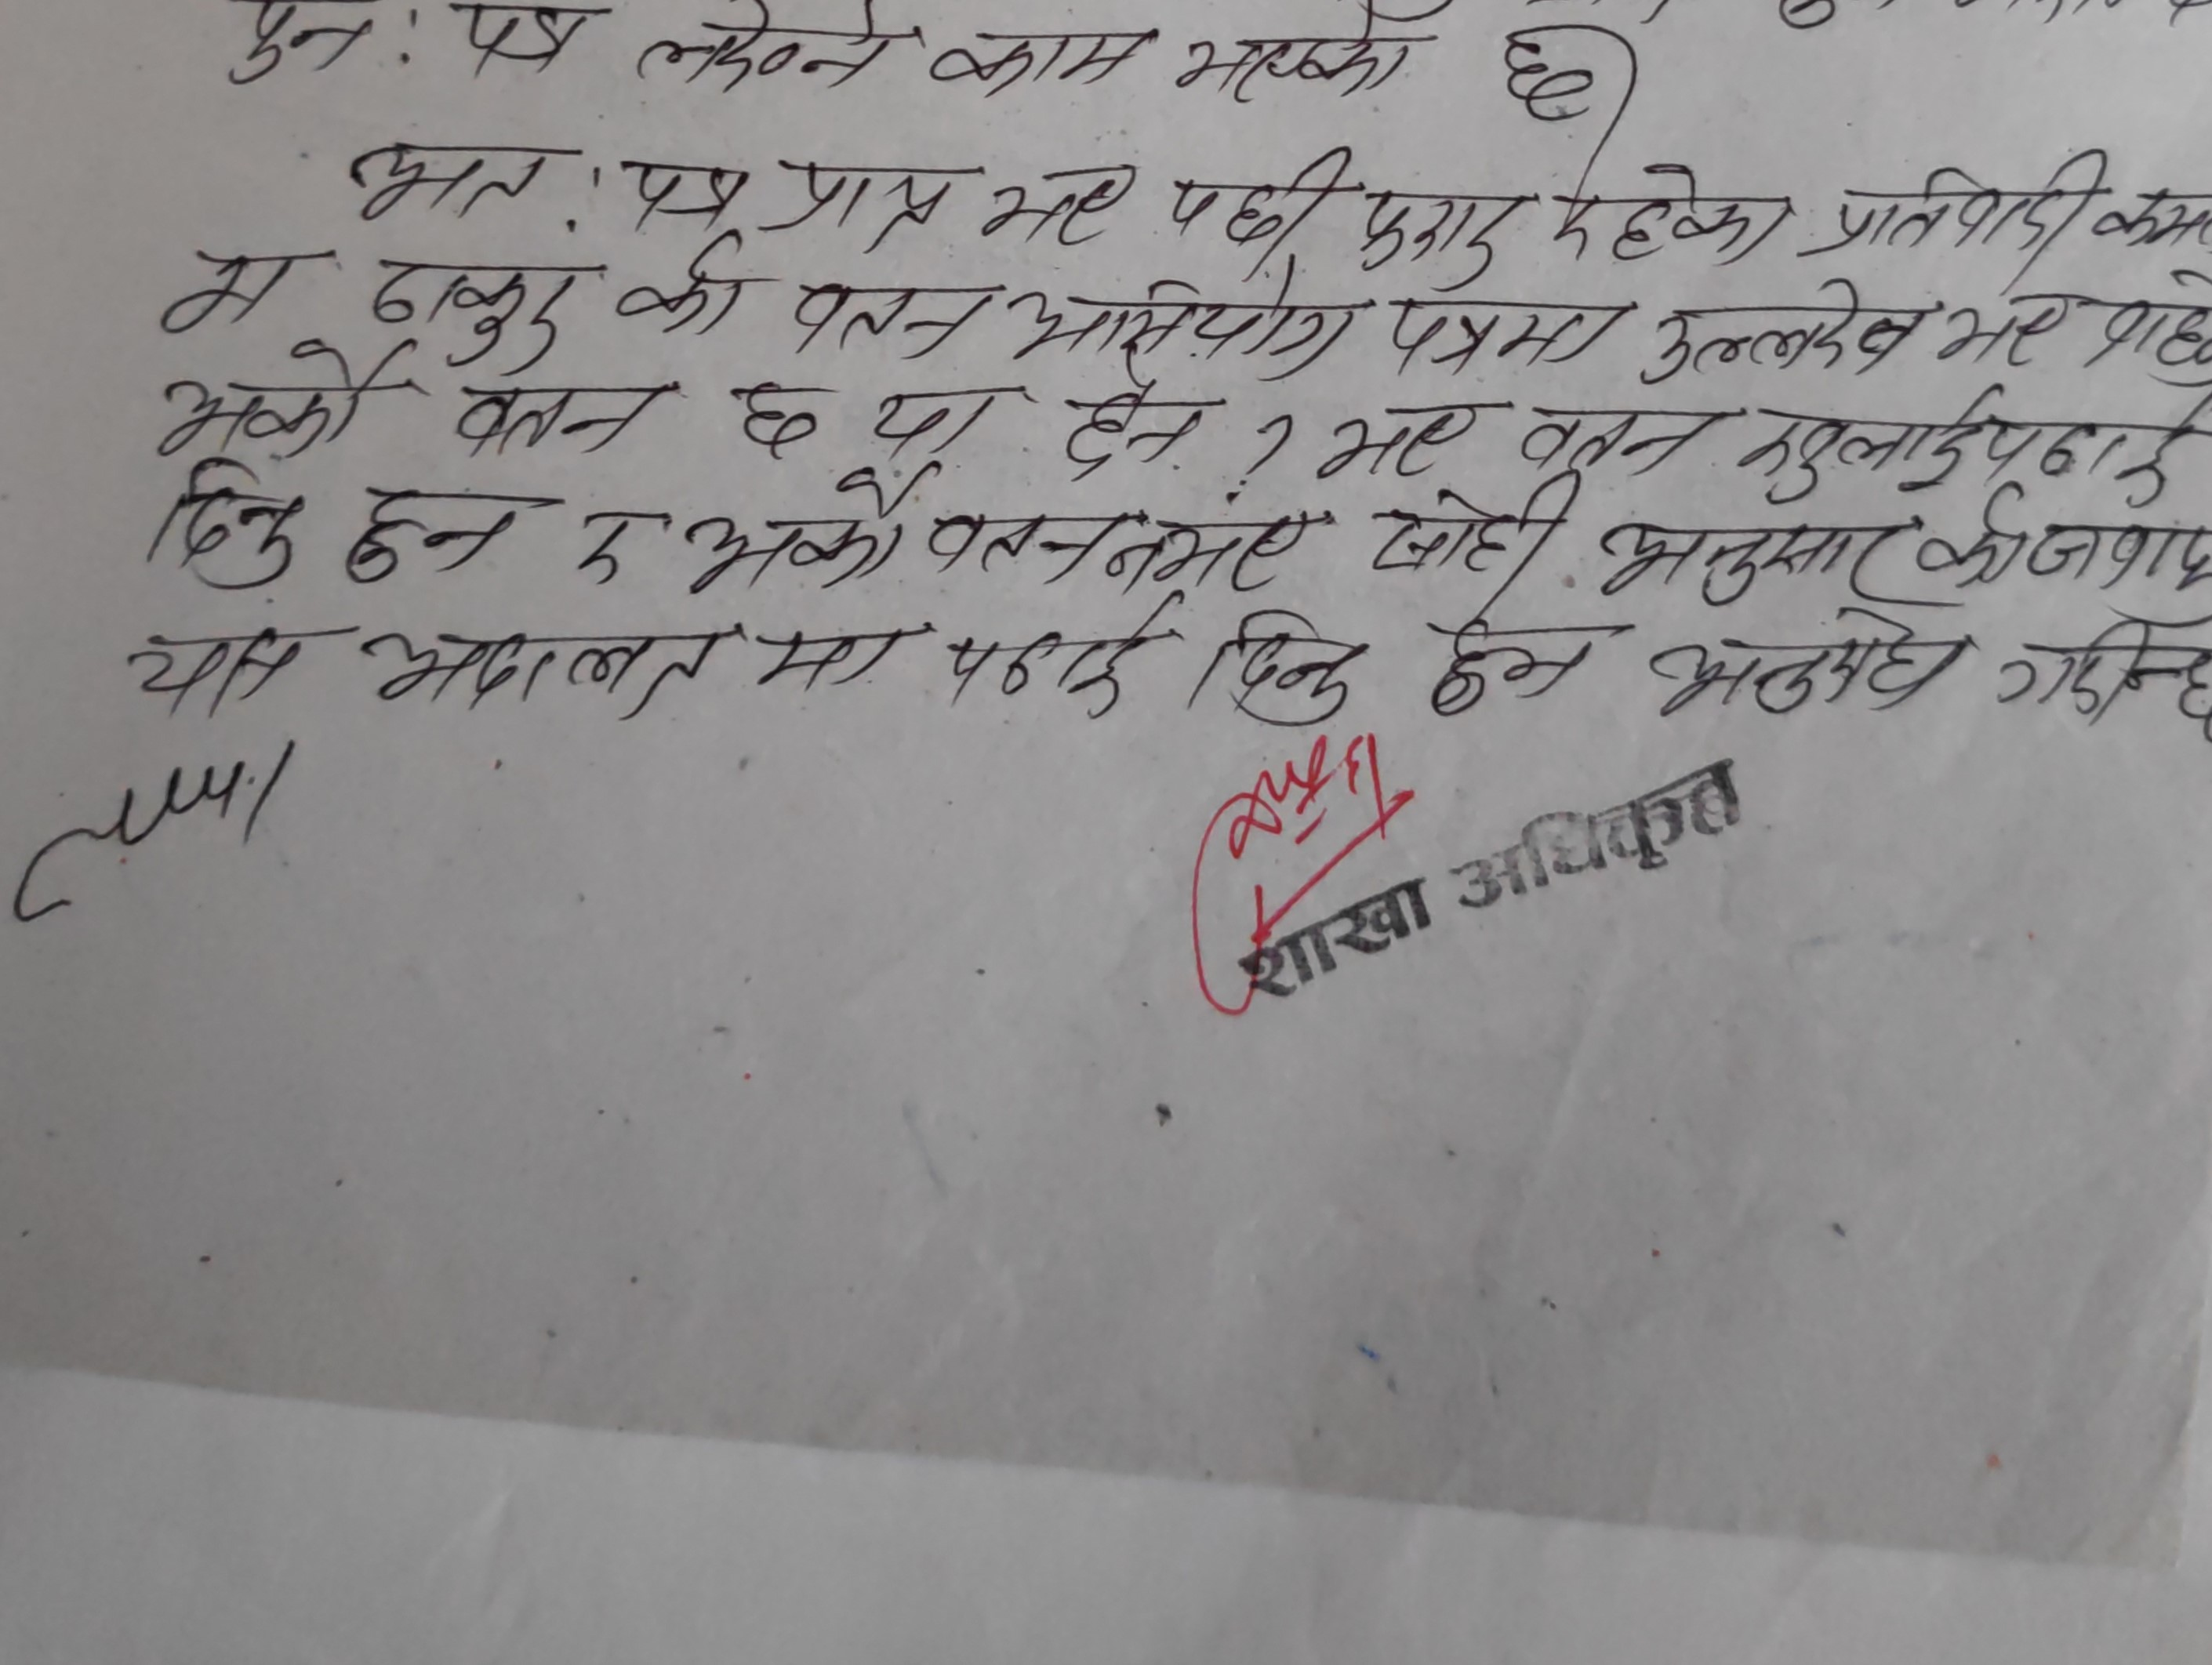text: (927, 484, 1334, 603), (1000, 250, 1357, 373), (353, 614, 722, 721), (1644, 600, 1969, 715), (1927, 261, 2212, 387), (1595, 497, 1913, 609), (1913, 484, 2212, 600), (1644, 264, 1927, 385), (1813, 143, 2107, 255), (1729, 373, 1981, 502), (1985, 371, 2212, 511), (936, 589, 1168, 726), (149, 336, 404, 460), (677, 469, 922, 598), (1990, 617, 2212, 750), (1350, 479, 1586, 603), (1172, 3, 1443, 110), (628, 3, 916, 101), (371, 245, 572, 373), (149, 451, 311, 603), (1154, 147, 1359, 264), (337, 477, 530, 595), (1617, 152, 1796, 275), (1369, 283, 1628, 367), (1406, 614, 1612, 717), (1187, 605, 1359, 726), (1506, 390, 1729, 479), (790, 266, 1005, 359), (451, 378, 670, 469), (124, 614, 320, 715), (343, 133, 553, 227), (1054, 362, 1217, 483), (782, 140, 962, 245), (1357, 177, 1527, 287), (927, 21, 1154, 101), (976, 149, 1144, 257), (1315, 390, 1490, 491), (852, 359, 1023, 462), (1488, 26, 1644, 135), (147, 236, 310, 336), (614, 236, 768, 339), (217, 3, 388, 93), (612, 143, 754, 236), (446, 0, 605, 82), (745, 628, 913, 701), (722, 371, 832, 456), (563, 505, 654, 582), (1544, 168, 1605, 269)
